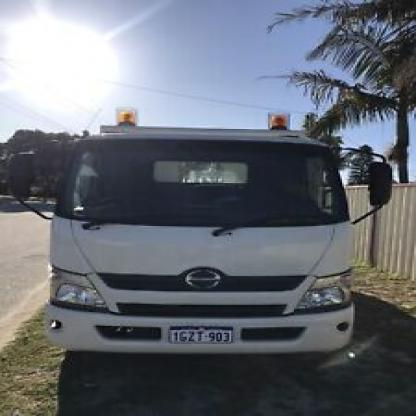dump_truck: (17, 107, 410, 373)
